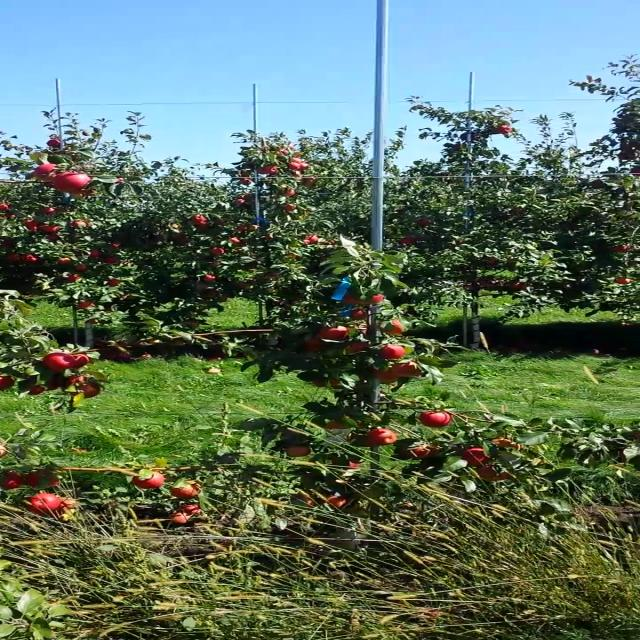apple: (54, 172, 94, 194), (41, 353, 75, 374), (28, 493, 61, 514), (26, 470, 59, 490), (461, 447, 490, 469), (132, 471, 164, 490), (418, 410, 452, 427), (318, 326, 350, 343), (365, 428, 399, 444), (171, 479, 201, 497), (2, 472, 28, 492), (377, 368, 405, 386), (34, 163, 58, 184), (395, 362, 424, 378), (331, 456, 360, 472), (478, 467, 510, 481), (380, 345, 406, 361), (73, 383, 98, 399), (409, 444, 437, 458), (383, 320, 407, 336), (489, 438, 520, 450), (298, 339, 324, 353), (326, 494, 348, 510), (285, 446, 312, 458), (70, 353, 91, 368), (344, 342, 369, 354), (362, 294, 386, 306), (27, 383, 46, 395), (182, 504, 204, 514), (326, 420, 348, 430), (350, 309, 366, 321), (68, 375, 86, 385), (49, 378, 66, 388), (61, 500, 78, 510), (299, 493, 312, 506), (2, 376, 13, 390), (343, 296, 359, 305), (320, 439, 336, 448), (331, 378, 343, 386)
